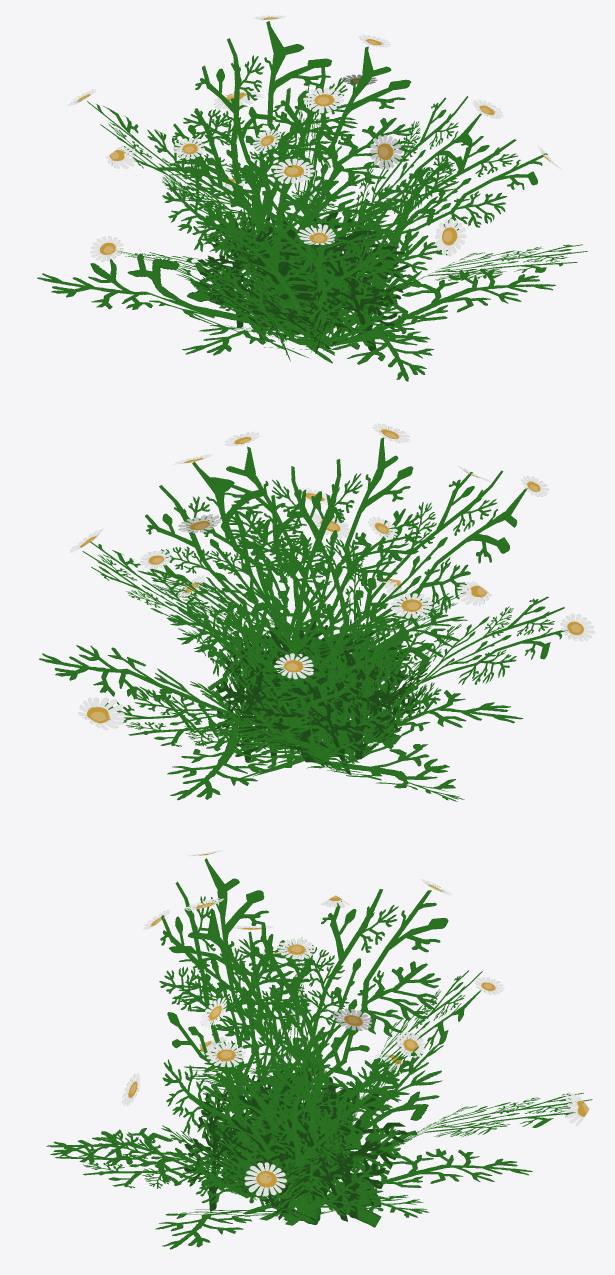
File: PT_Chamomille_01.fbx
3 views of the same model, one above another, from view 1: azimuth 30°, elevation 25°; view 2: azimuth 150°, elevation 25°; view 3: azimuth 270°, elevation 25° (orthographic). The views are drawn at different scales.
Visible parts, largest first — view 1: PT_Chamomile_01_LOD0; view 2: PT_Chamomile_01_LOD0; view 3: PT_Chamomile_01_LOD0.
Part boxes in pixels (x1,y1,x2,y2): PT_Chamomile_01_LOD0: (37, 15, 587, 381); PT_Chamomile_01_LOD0: (39, 423, 594, 801); PT_Chamomile_01_LOD0: (46, 850, 592, 1249).
Size of what is drawn, in the model's own units: 65.02 by 37.76 by 65.6.
